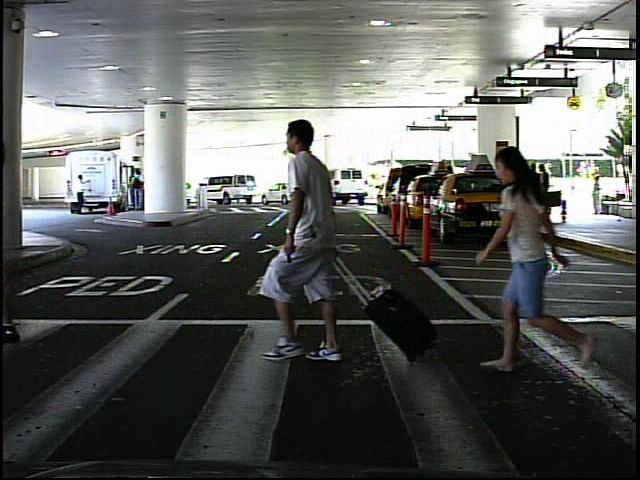person: (482, 130, 605, 385), (262, 107, 372, 374), (588, 172, 607, 218), (71, 172, 89, 216)
